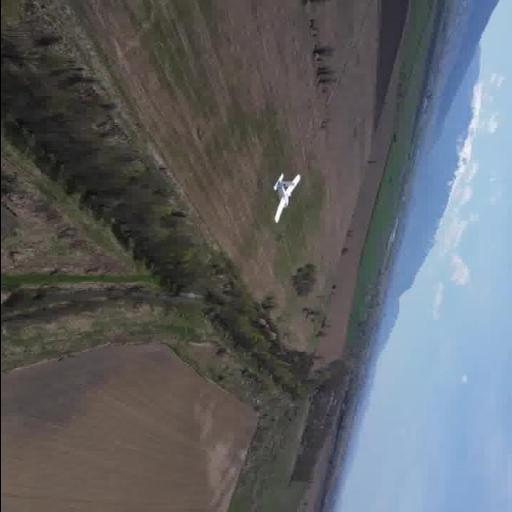uav: (260, 172, 312, 228)
